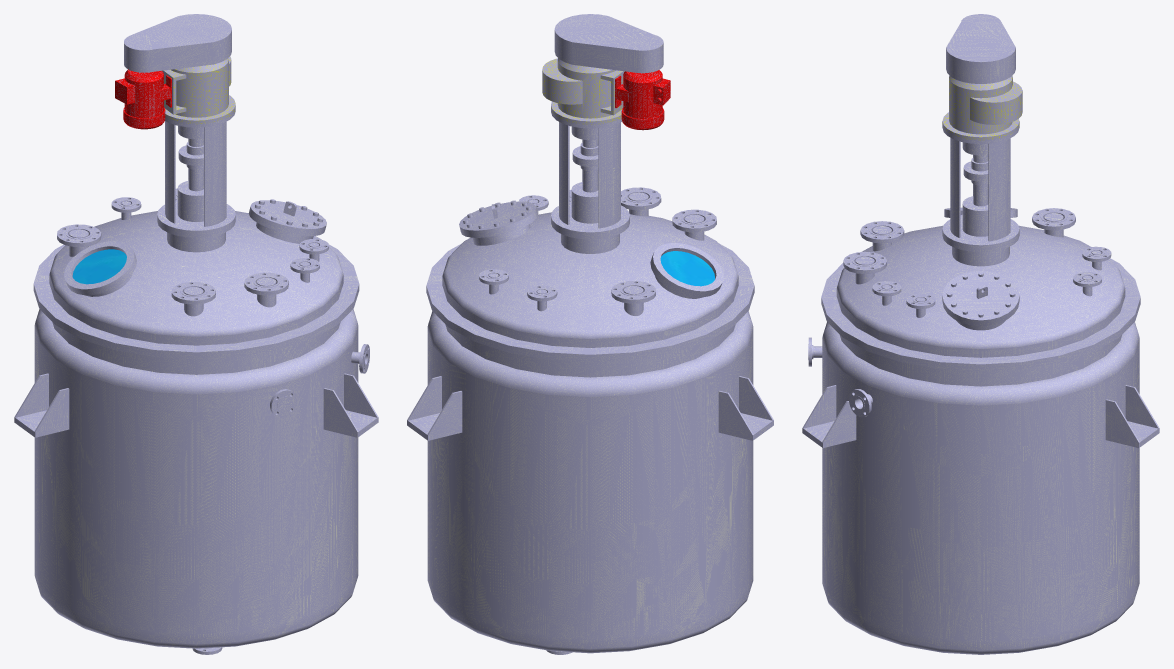
Rendered from reactor2.gltf.
3 views of the same model, side by side, from view 1: azimuth 30°, elevation 25°; view 2: azimuth 150°, elevation 25°; view 3: azimuth 270°, elevation 25° (orthographic). The views are drawn at different scales.
Visible parts, largest first — view 1: SketchUp, SketchUp.002, SketchUp.004, group_0.017, group_0.005, group_0.008, instance_0, SketchUp.006, SketchUp.009, SketchUp.010, group_0.003, group_0.001 (+5 smaller); view 2: SketchUp, SketchUp.002, SketchUp.004, group_0.017, group_0.005, group_0.003, instance_0, SketchUp.006, SketchUp.009, SketchUp.010, group_0.007, group_0.001 (+5 smaller); view 3: SketchUp, SketchUp.002, SketchUp.004, group_0.017, group_0.005, SketchUp.006, group_0.007, group_0.008, group_0.001, group_0.023, group_0.009, instance_10 (+2 smaller).
Boxes of the visible parts, x1,y1,x2,y2 form: SketchUp: [14, 309, 378, 648]; SketchUp.002: [49, 203, 343, 345]; SketchUp.004: [33, 244, 359, 359]; group_0.017: [124, 14, 231, 72]; group_0.005: [162, 56, 231, 117]; group_0.008: [204, 122, 226, 226]; instance_0: [115, 69, 171, 118]; SketchUp.006: [248, 200, 326, 236]; SketchUp.009: [64, 241, 136, 295]; SketchUp.010: [72, 249, 126, 284]; group_0.003: [165, 121, 175, 223]; group_0.001: [177, 181, 203, 221]; SketchUp: [407, 311, 773, 653]; SketchUp.002: [442, 197, 738, 347]; SketchUp.004: [426, 243, 754, 361]; group_0.017: [554, 14, 663, 73]; group_0.005: [542, 58, 624, 118]; group_0.003: [598, 122, 620, 228]; instance_0: [615, 70, 670, 118]; SketchUp.006: [459, 201, 537, 237]; SketchUp.009: [650, 243, 723, 297]; SketchUp.010: [660, 251, 715, 286]; group_0.007: [559, 122, 569, 224]; group_0.001: [571, 182, 598, 223]; SketchUp: [802, 322, 1159, 654]; SketchUp.002: [836, 208, 1125, 357]; SketchUp.004: [821, 258, 1140, 371]; group_0.017: [946, 14, 1015, 83]; group_0.005: [949, 76, 1022, 134]; SketchUp.006: [942, 271, 1019, 326]; group_0.007: [988, 138, 1010, 241]; group_0.008: [950, 138, 960, 237]; group_0.001: [962, 196, 988, 236]; group_0.023: [942, 214, 1019, 245]; group_0.009: [942, 112, 1019, 140]; instance_10: [843, 251, 886, 274].
Size of the model in its own units: 1.84 by 3.39 by 1.86.
6 materials, 1 textured.
